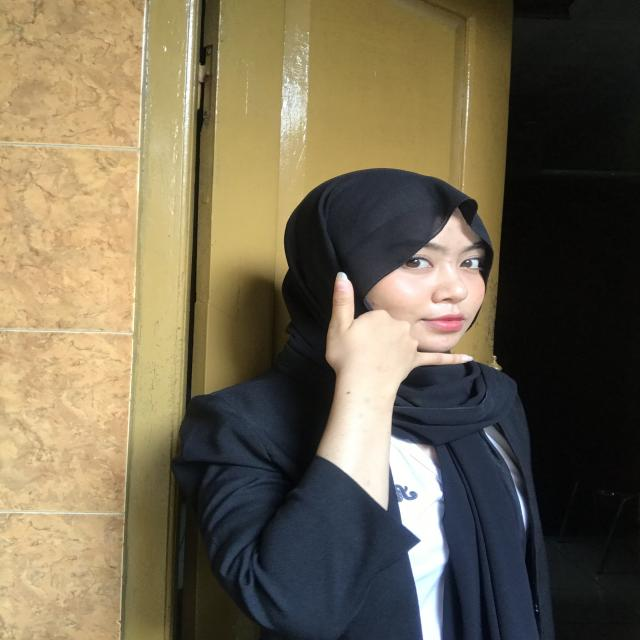telpon: (303, 267, 494, 390)
